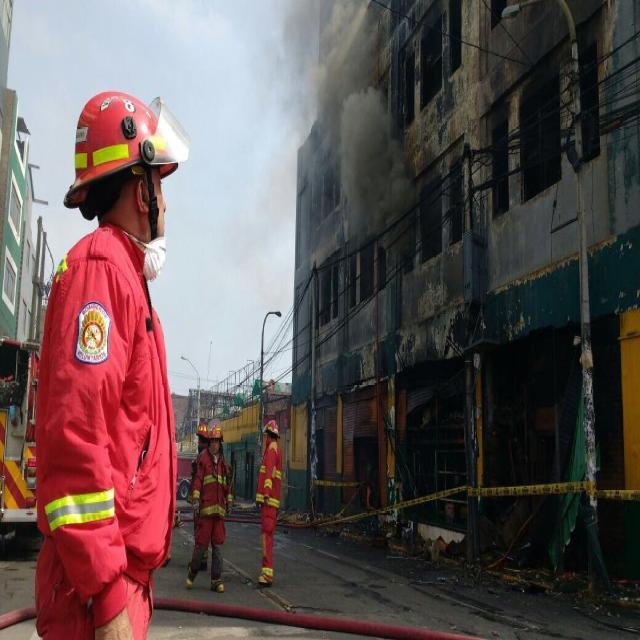Fire: (46, 486, 114, 527), (96, 611, 136, 640)
Smoke: (286, 44, 406, 238)
